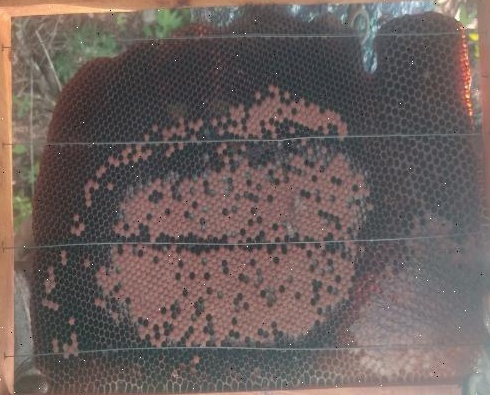cria: (39, 87, 391, 362)
